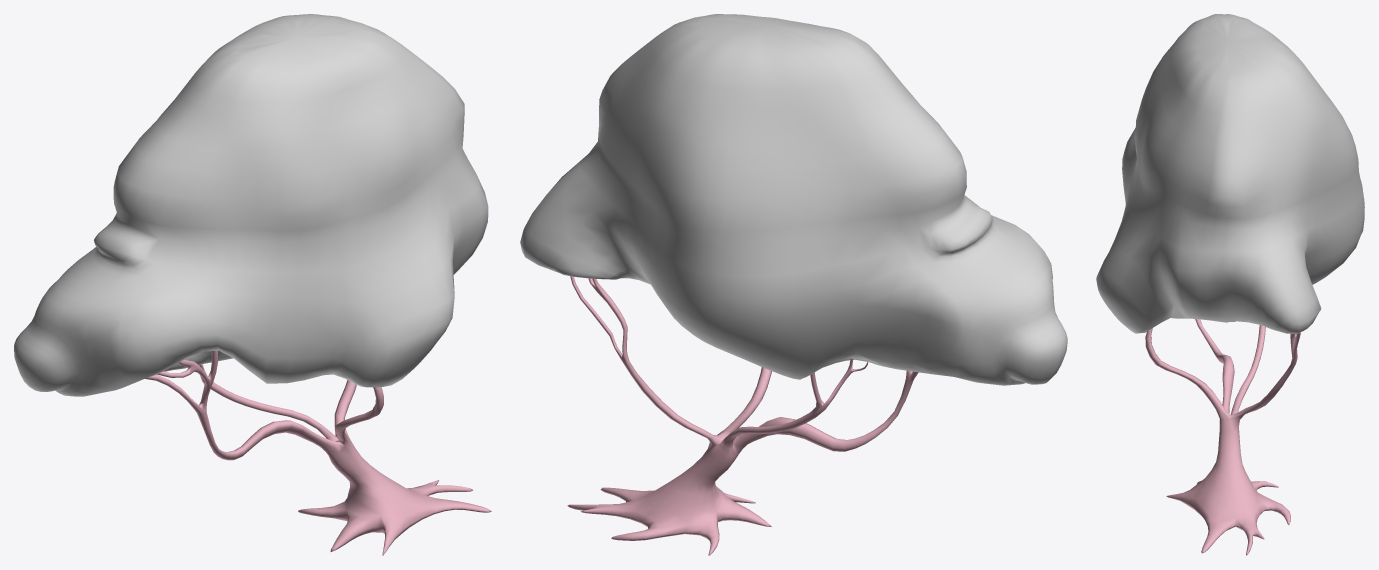
The model's file is Tree_02.fbx.
The picture shows the model from 3 angles, left to right: view 1: azimuth 30°, elevation 25°; view 2: azimuth 150°, elevation 25°; view 3: azimuth 270°, elevation 25°; orthographic projection. The views are drawn at different scales.
Visible parts, largest first — view 1: Tree_02L, Tree_02; view 2: Tree_02L, Tree_02; view 3: Tree_02L, Tree_02.
Boxes of the visible parts, x1,y1,x2,y2 form: Tree_02L: (14, 14, 488, 396); Tree_02: (145, 350, 491, 555); Tree_02L: (520, 14, 1067, 385); Tree_02: (567, 276, 918, 555); Tree_02L: (1096, 14, 1364, 333); Tree_02: (1145, 319, 1300, 555).
Bounding box in the file's own units: 983 × 984 × 547.
